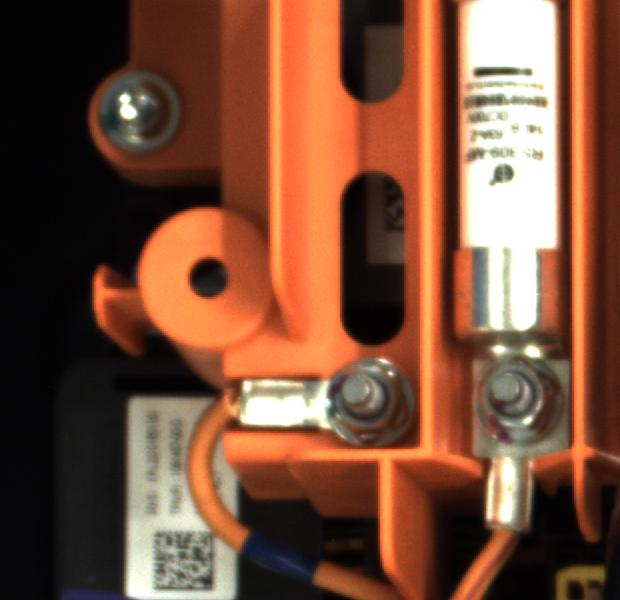screw_m: (92, 64, 196, 157)
screw_s: (315, 347, 411, 443), (476, 354, 568, 448)
